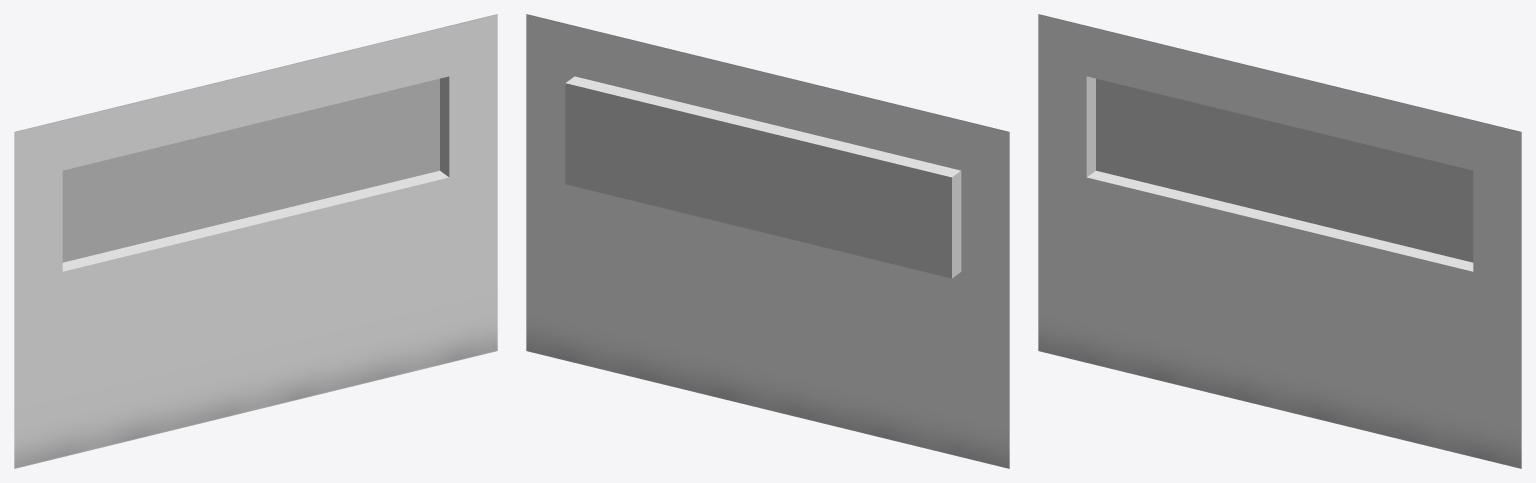
Rendered from WallWithWindow.fbx.
3 views of the same model, side by side, from view 1: azimuth 30°, elevation 25°; view 2: azimuth 150°, elevation 25°; view 3: azimuth 330°, elevation 25° (orthographic).
Parts seen in each view (by area): view 1: WallWithWindow; view 2: WallWithWindow; view 3: WallWithWindow.
Boxes of the visible parts, x1,y1,x2,y2 form: WallWithWindow: [14, 14, 497, 468]; WallWithWindow: [526, 14, 1009, 468]; WallWithWindow: [1038, 14, 1521, 468].
Size of the model in its own units: 300 by 200 by 10.
2 materials, 1 textured.
